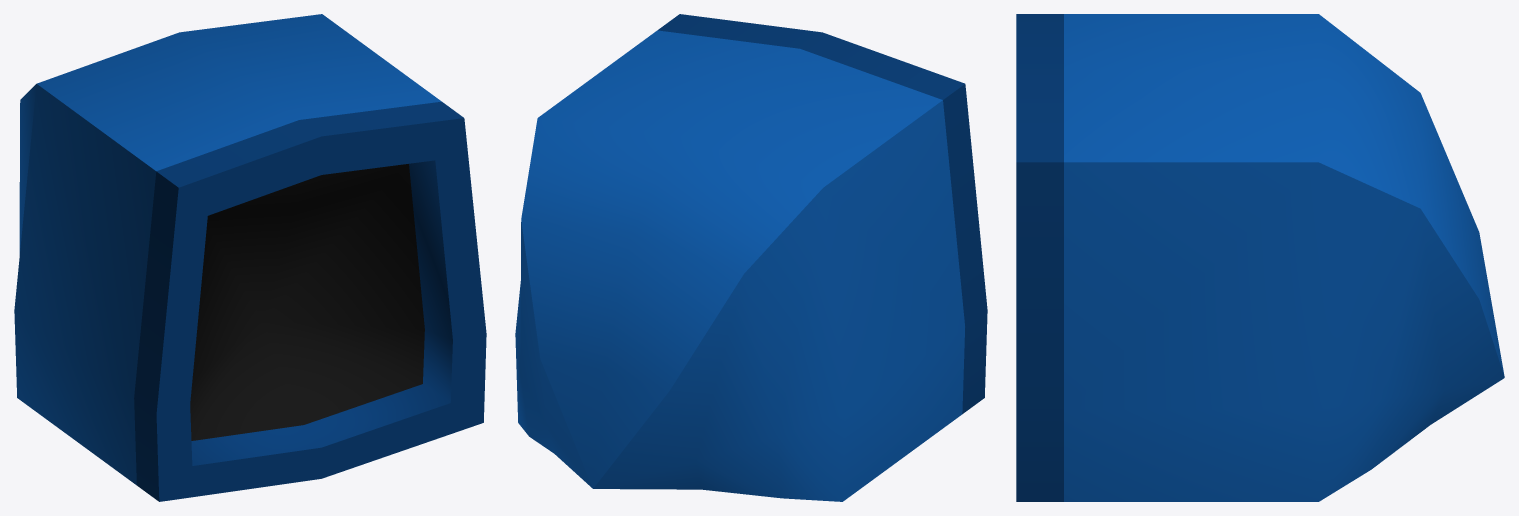
Rendered from Hood 02.FBX.
3 renders of one model, left to right at view 1: azimuth 30°, elevation 25°; view 2: azimuth 150°, elevation 25°; view 3: azimuth 270°, elevation 25°, orthographic. The views are drawn at different scales.
Visible parts, largest first — view 1: Hood 02; view 2: Hood 02; view 3: Hood 02.
Boxes of the visible parts, x1=… form: Hood 02: x1=14, y1=14, x2=486, y2=501; Hood 02: x1=515, y1=14, x2=987, y2=501; Hood 02: x1=1016, y1=14, x2=1504, y2=501.
Size of the model in its own units: 68.13 by 67.54 by 82.06.
